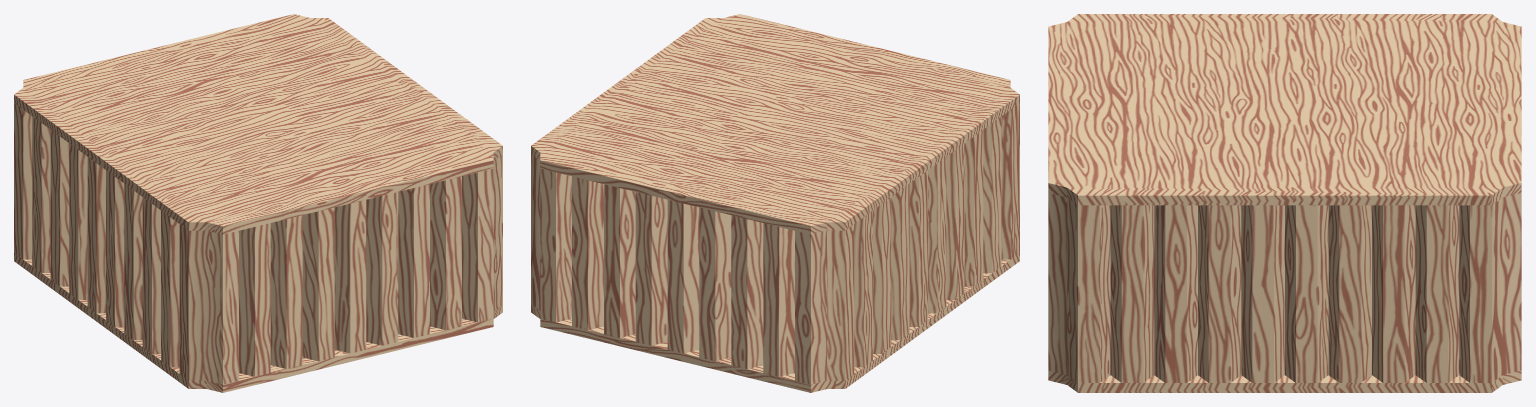
The model's file is Crate.FBX.
The picture shows the model from 3 angles, left to right: view 1: azimuth 30°, elevation 25°; view 2: azimuth 150°, elevation 25°; view 3: azimuth 270°, elevation 25°; orthographic projection. The views are drawn at different scales.
Visible parts, largest first — view 1: Box001; view 2: Box001; view 3: Box001.
Part boxes in pixels (bbox=[...]): Box001: bbox=[14, 14, 502, 392]; Box001: bbox=[531, 14, 1019, 392]; Box001: bbox=[1048, 14, 1521, 392].
Bounding box in the file's own units: 77.69 × 39.37 × 85.56.
Materials: 1 (1 with a texture image).
